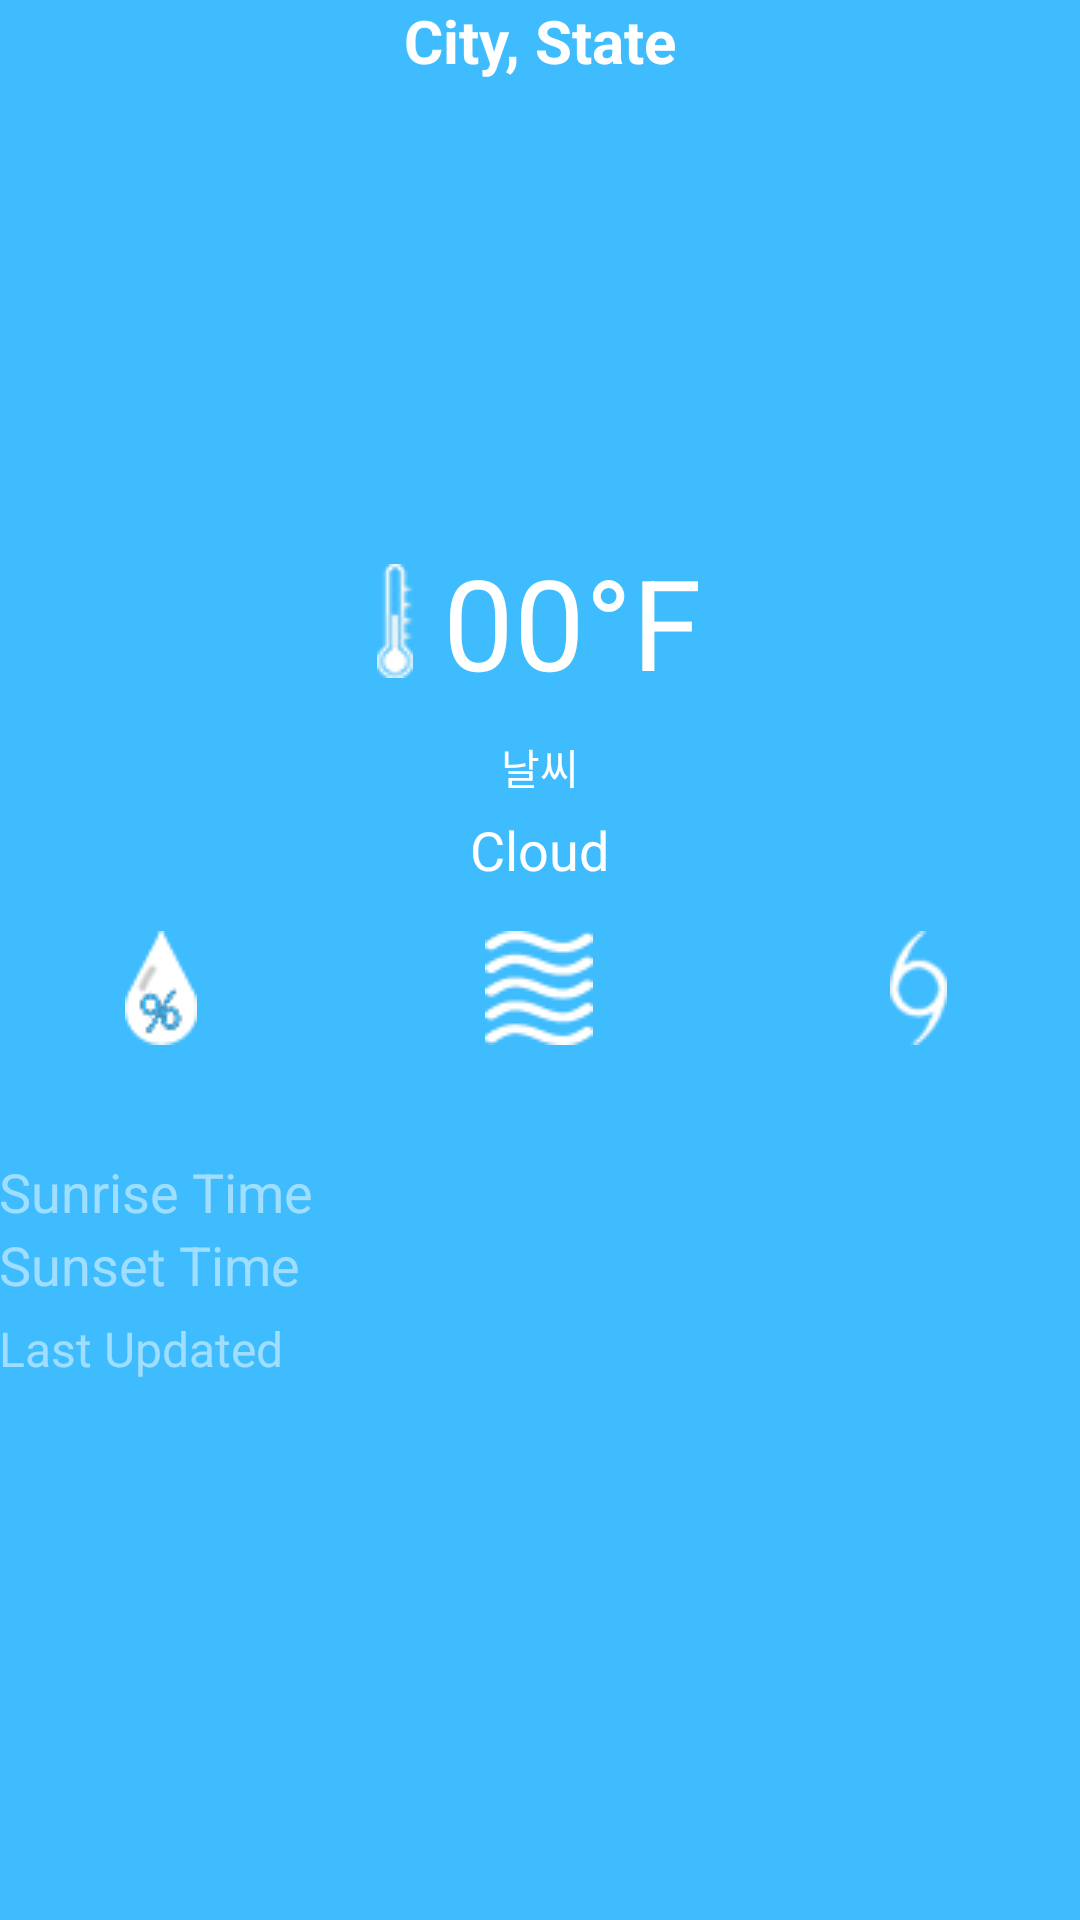

Icon bounding boxes for this 1080 × 1920 phone screenshot, format (x1, y1, x2, y2):
mywater: (125, 931, 197, 1045)
mywind: (485, 931, 593, 1045)
